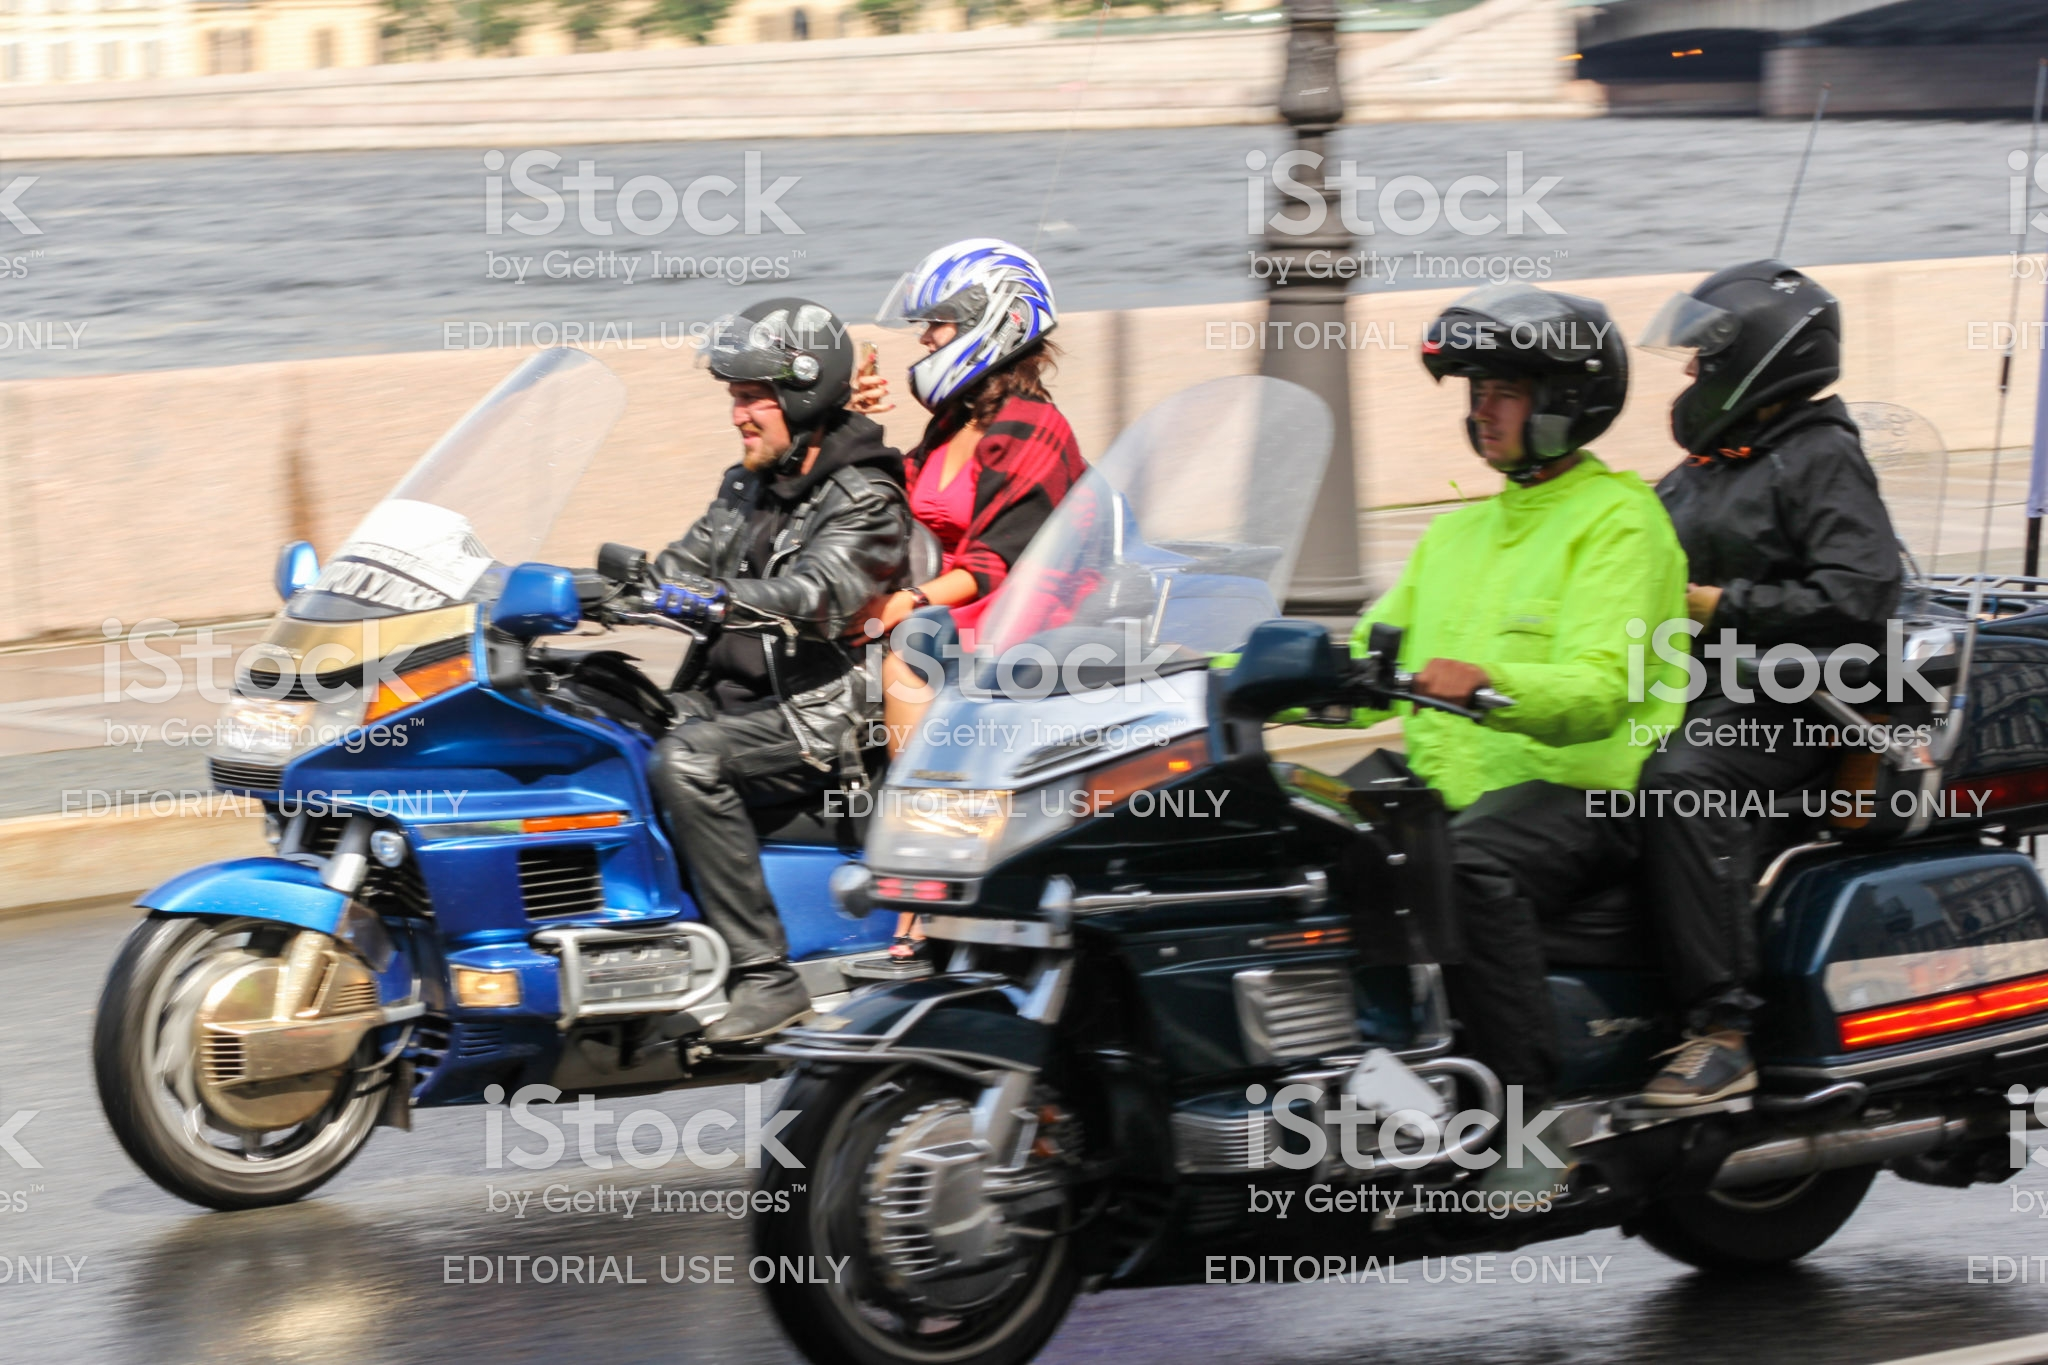helmet: (1657, 248, 1844, 436), (1425, 294, 1631, 448), (894, 221, 1063, 398), (707, 279, 886, 440)
